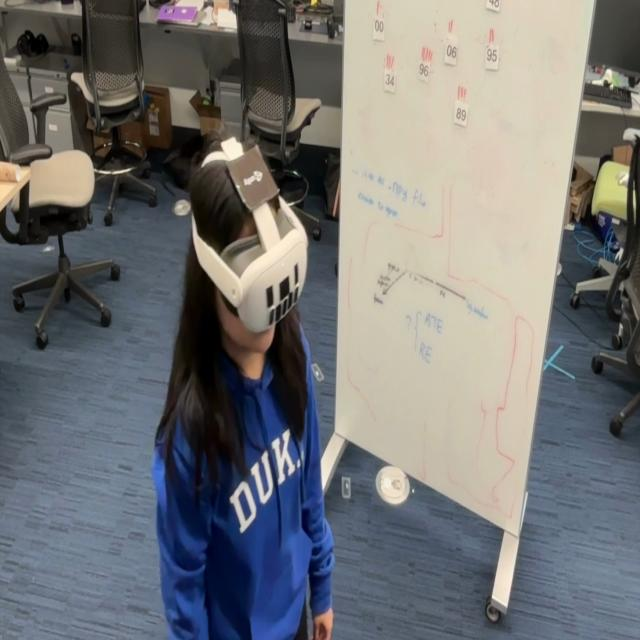Headset: (189, 136, 309, 334)
UnityLogo: (225, 140, 280, 213)
